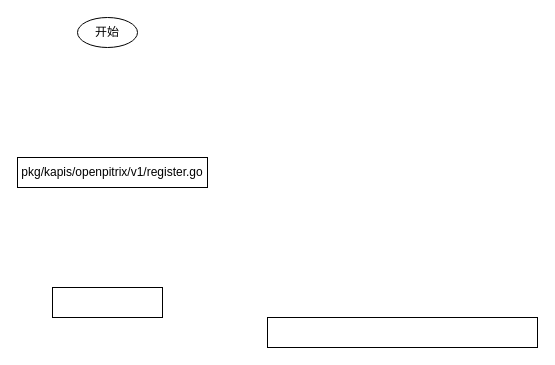
Some shapes in this 555 by 365 pixel diagram are drawn without their labels. Each missing label, with the centre of its shape:
/openpitrix.AppManager/DescribeApps: [402,332]
AddToContainer: [107,302]
